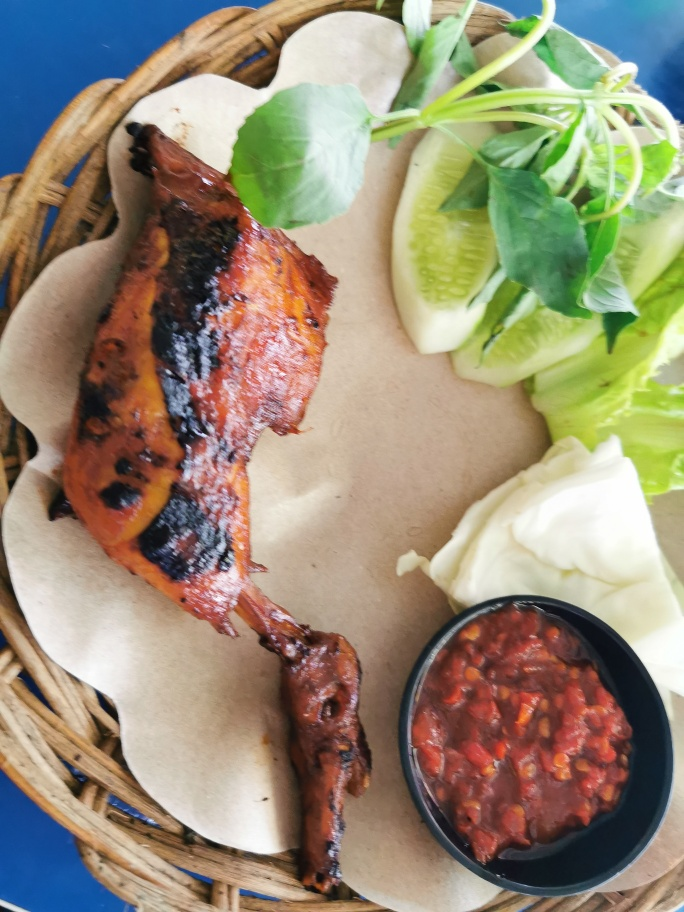ayam bakar: (88, 121, 409, 887)
